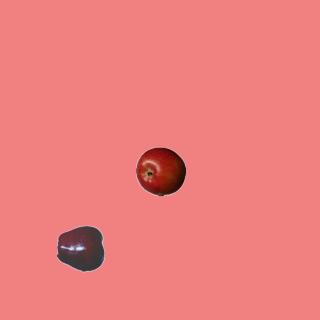Apple Braeburn: (135, 146, 185, 196)
Apple Red Delicious: (56, 223, 106, 273)
